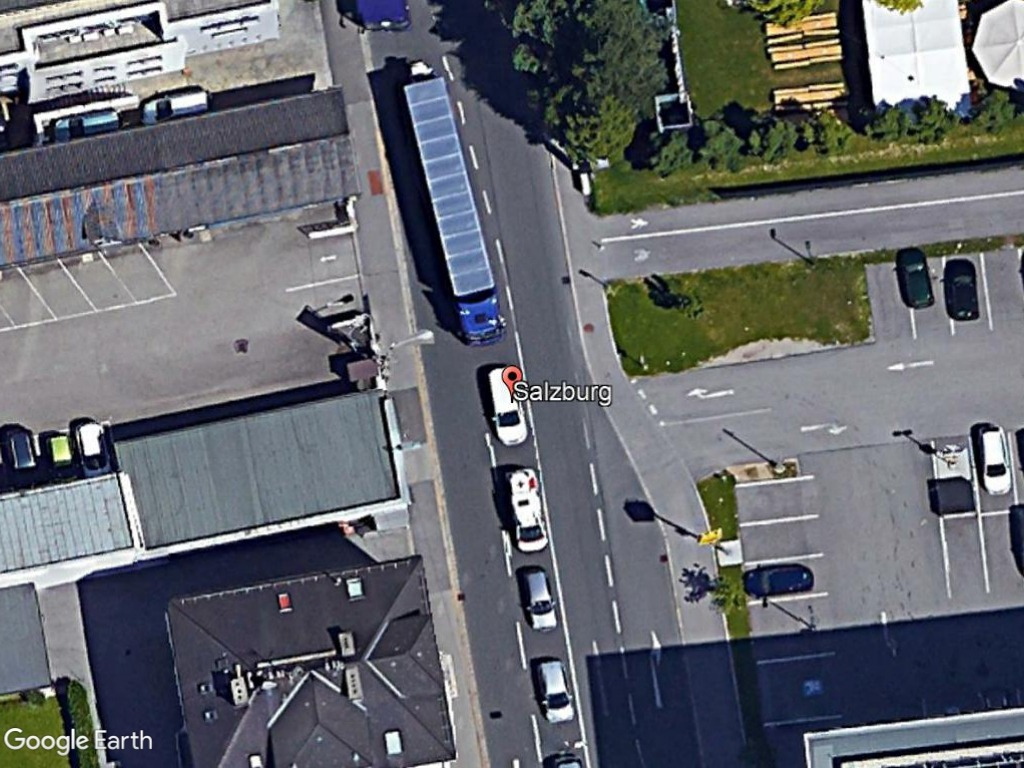car: (485, 362, 530, 452), (973, 420, 1018, 501), (737, 559, 815, 604), (533, 656, 578, 730), (517, 563, 561, 637), (891, 244, 934, 315), (942, 253, 981, 326)
longvehicle: (400, 76, 509, 347)
